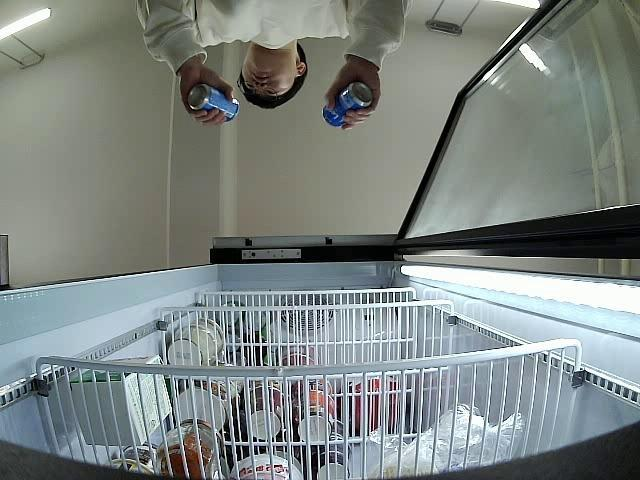15_letsbe: (321, 81, 374, 126), (185, 84, 240, 122)
